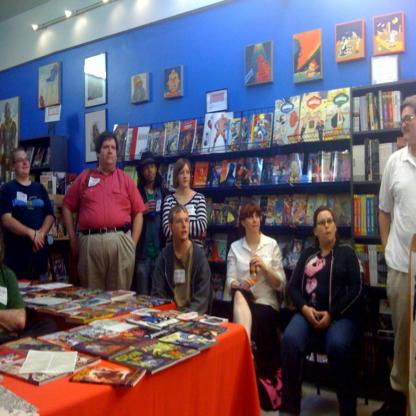book: (0, 282, 230, 397), (110, 86, 352, 164), (128, 150, 351, 192), (209, 190, 352, 230), (204, 235, 322, 270), (351, 136, 409, 183), (349, 84, 402, 134), (70, 366, 148, 390), (354, 244, 388, 290), (37, 167, 80, 198), (351, 193, 381, 237), (48, 212, 84, 237), (48, 252, 74, 282), (25, 147, 52, 172), (211, 270, 231, 301), (1, 168, 13, 184)
